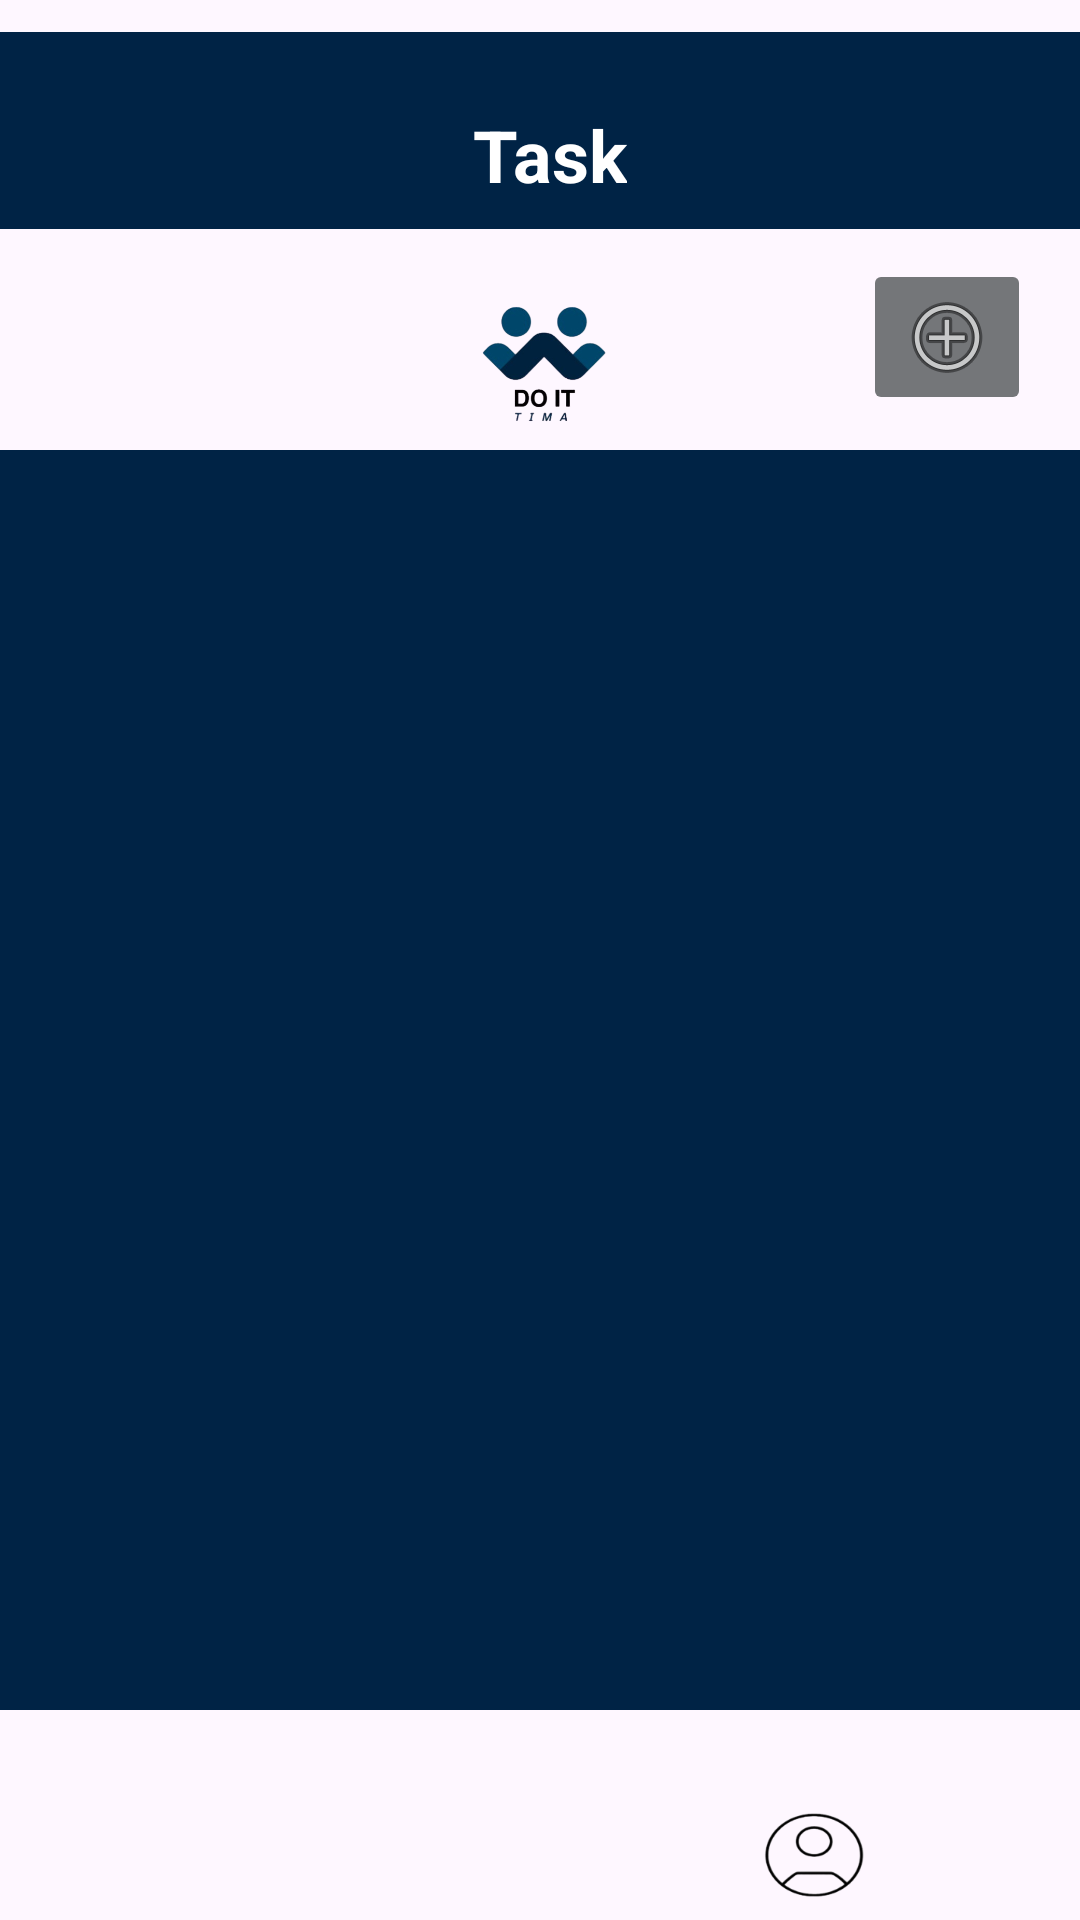

Where to tap for icons on this 1080w x 1920h app screen, as (x=x, y=y):
add: (x=947, y=337)
